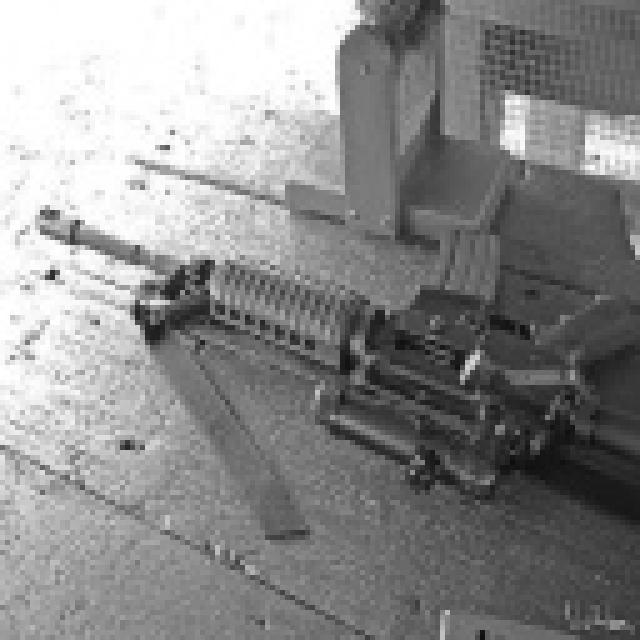Rifle: (20, 165, 640, 585)
